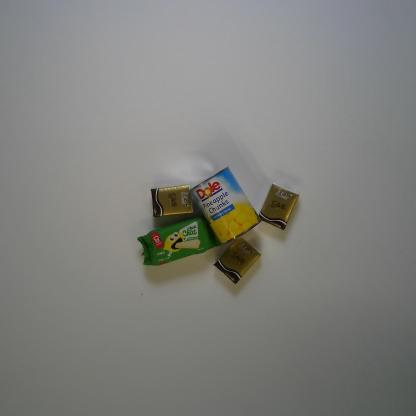Canned Food: (190, 166, 262, 246)
Dessert: (136, 215, 222, 267)
Tissue: (213, 236, 262, 285), (258, 181, 300, 231), (150, 184, 193, 218)
